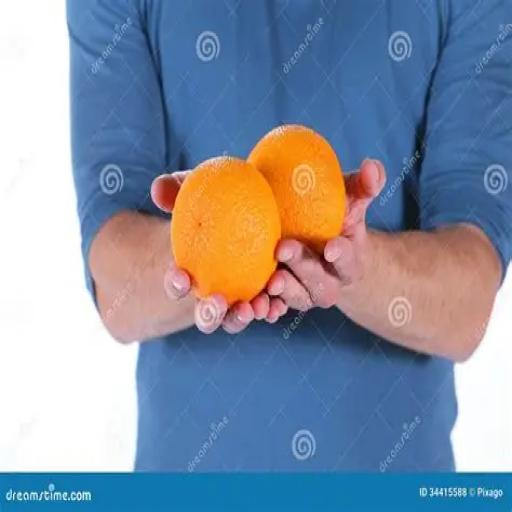orange: (171, 158, 280, 305), (249, 125, 345, 253)
